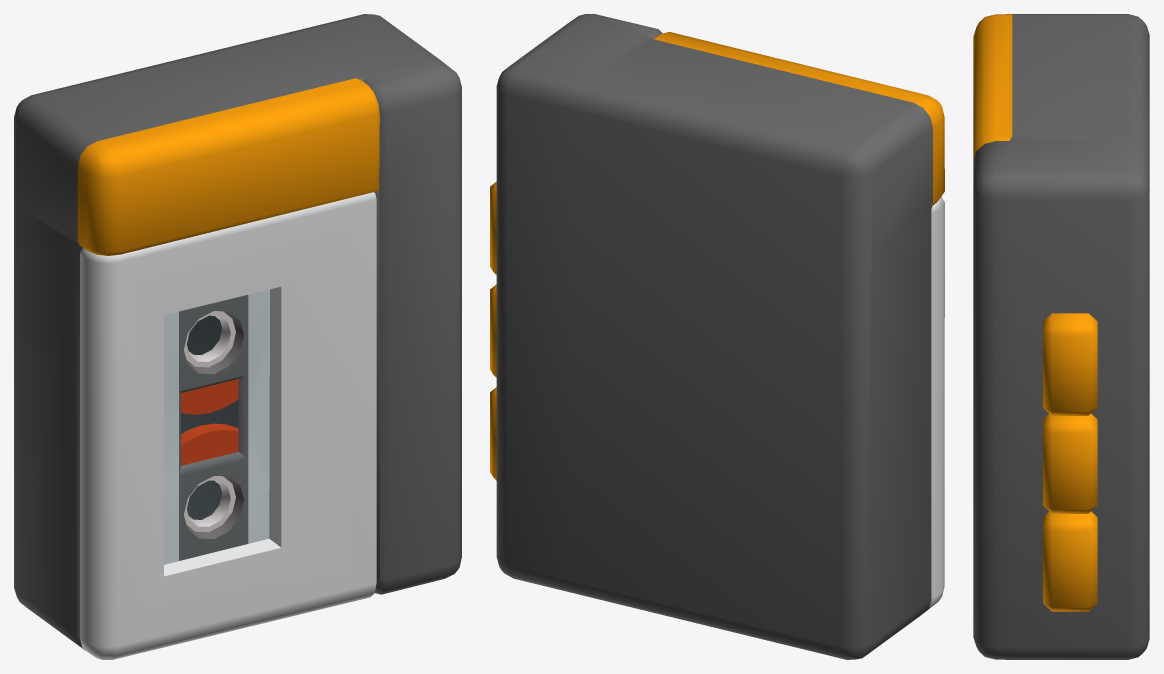
Rendered from Audio_003.fbx.
3 views of the same model, side by side, from view 1: azimuth 30°, elevation 25°; view 2: azimuth 150°, elevation 25°; view 3: azimuth 270°, elevation 25° (orthographic). The views are drawn at different scales.
Visible parts, largest first — view 1: Audio_003; view 2: Audio_003; view 3: Audio_003.
Boxes of the visible parts, bbox=[...] form: Audio_003: bbox=[14, 14, 461, 659]; Audio_003: bbox=[490, 14, 944, 659]; Audio_003: bbox=[973, 14, 1149, 659].
Bounding box in the file's own units: 11.3 × 4.5 × 13.7.
